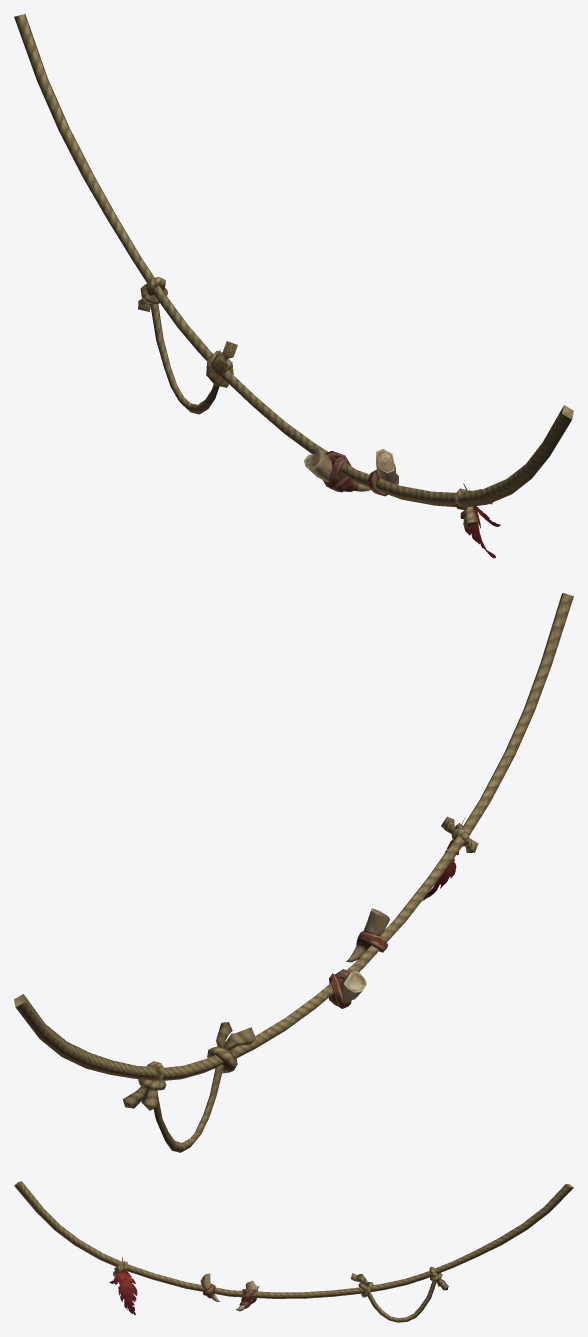
The picture shows the model from 3 angles, top to bottom: view 1: azimuth 30°, elevation 25°; view 2: azimuth 150°, elevation 25°; view 3: azimuth 270°, elevation 25°; orthographic projection. The views are drawn at different scales.
Bounding box in the file's own units: 1.15 × 4.07 × 14.61.
Materials: 2 (2 with a texture image).
